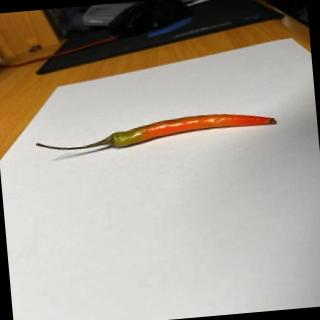Cabai Merah: (35, 109, 278, 156)
